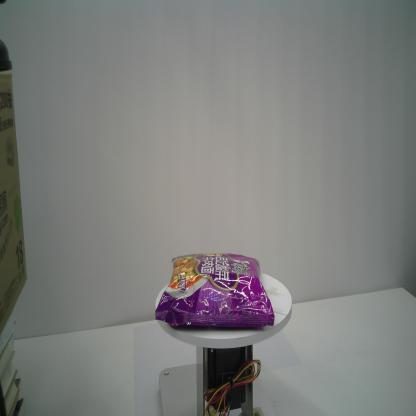Instant Noodles: (155, 252, 276, 328)
